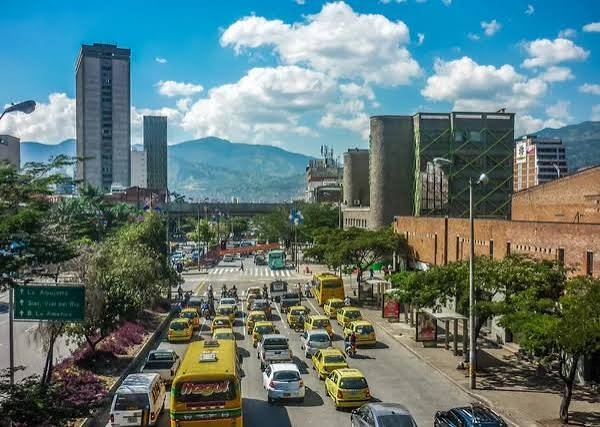car: (43, 262, 521, 427), (169, 353, 244, 425), (171, 342, 243, 407), (108, 372, 173, 426), (107, 370, 169, 425), (175, 339, 240, 382), (128, 370, 175, 426), (326, 368, 371, 412), (259, 353, 304, 397), (263, 362, 308, 404), (352, 402, 418, 427), (141, 343, 186, 374)
